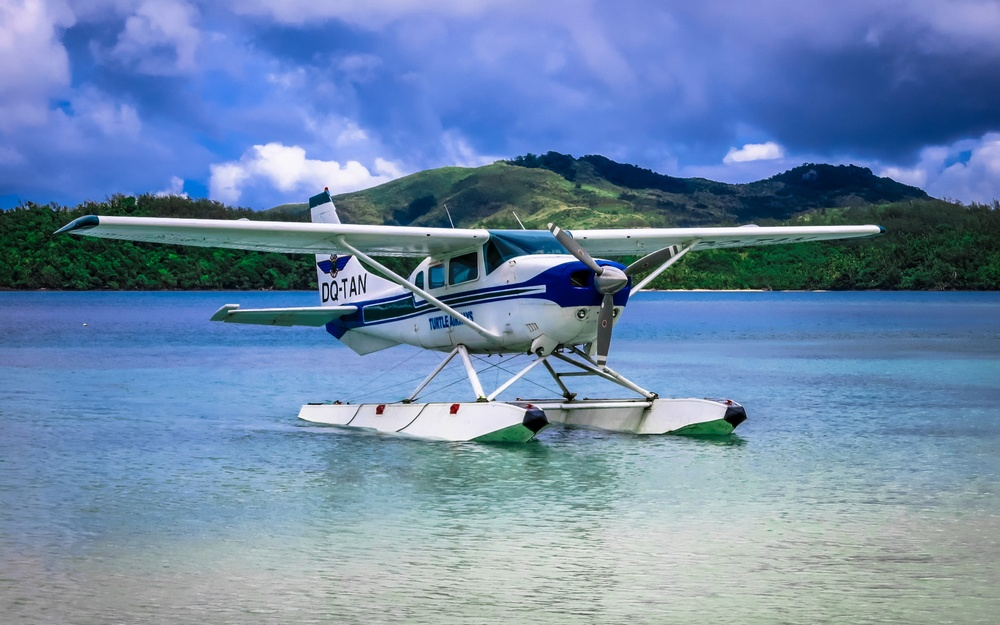Aeronef_commercial: (50, 177, 905, 469)
